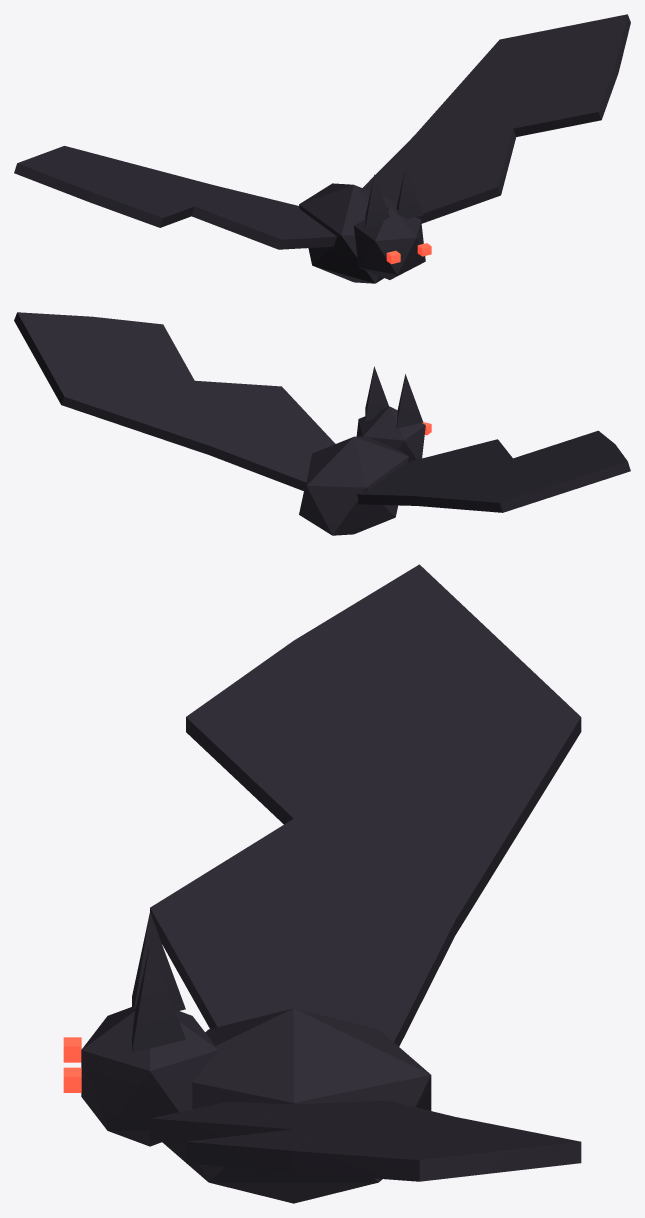
Rendered from catedral-bat_flying.glb.
3 views of the same model, one above another, from view 1: azimuth 30°, elevation 25°; view 2: azimuth 150°, elevation 25°; view 3: azimuth 270°, elevation 25° (orthographic). The views are drawn at different scales.
Parts seen in each view (by area): view 1: bat_flying; view 2: bat_flying; view 3: bat_flying.
Part boxes in pixels (x1,y1,x2,y2): bat_flying: (14, 14, 630, 283); bat_flying: (14, 312, 630, 535); bat_flying: (63, 564, 581, 1203).
Size of the model in its own units: 0.7932 by 0.2097 by 0.288.
Materials: 1 (1 with a texture image).
